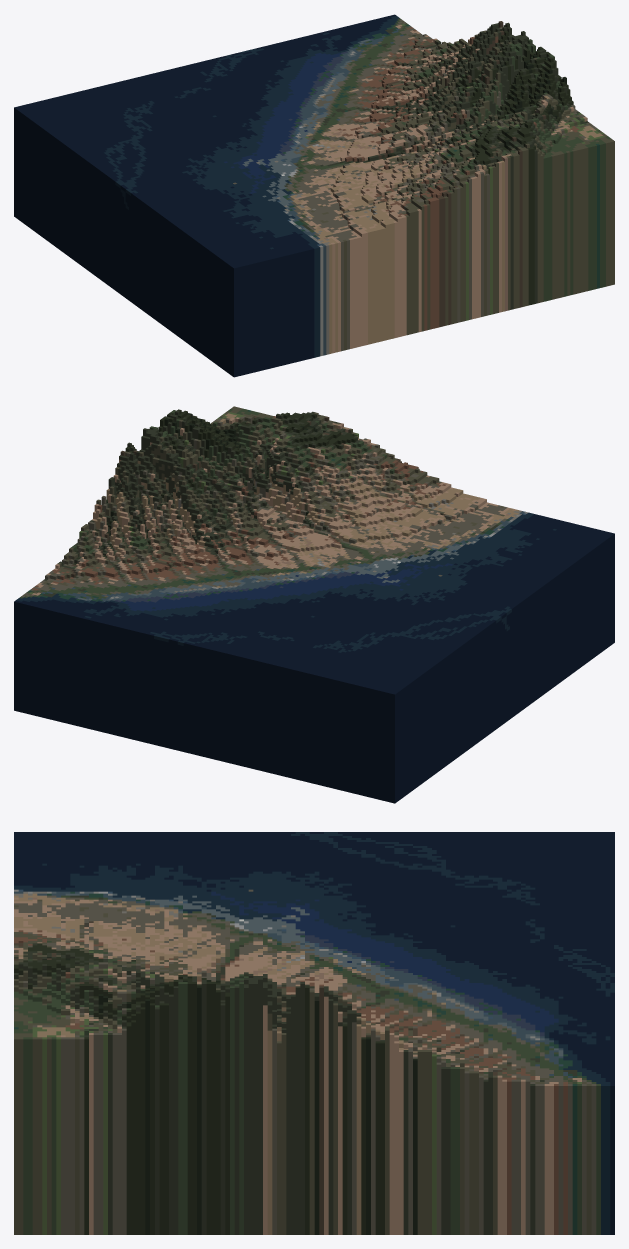
Rendered from MapⅤ3-2.obj.
The picture shows the model from 3 angles, top to bottom: view 1: azimuth 30°, elevation 25°; view 2: azimuth 150°, elevation 25°; view 3: azimuth 270°, elevation 25°; orthographic projection. The views are drawn at different scales.
Size of the model in its own units: 12.8 by 6 by 12.8.
Materials: 1 (1 with a texture image).
